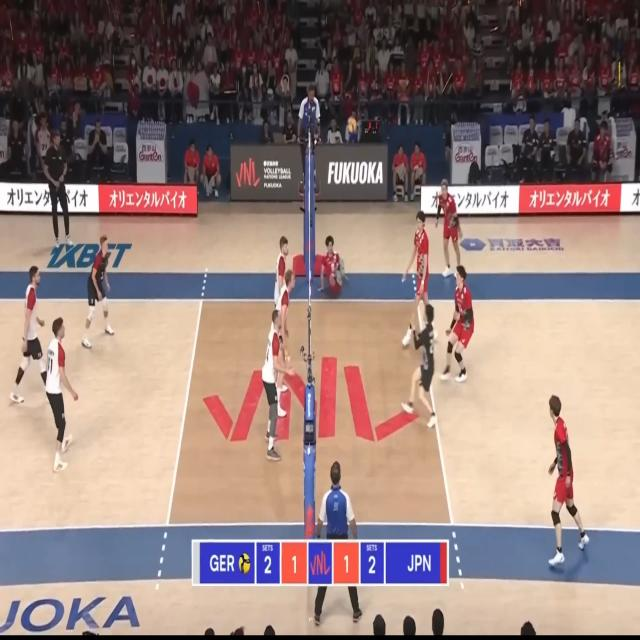ball: (348, 117, 356, 133)
